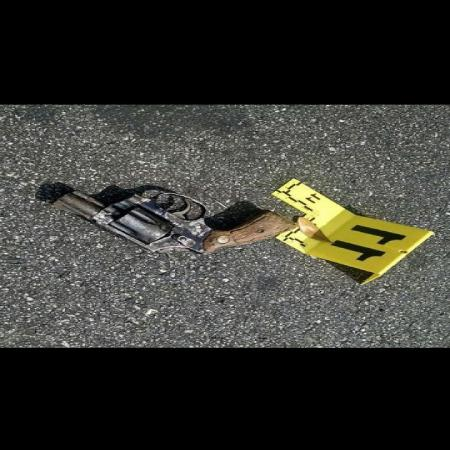Pistol: (45, 175, 300, 267)
